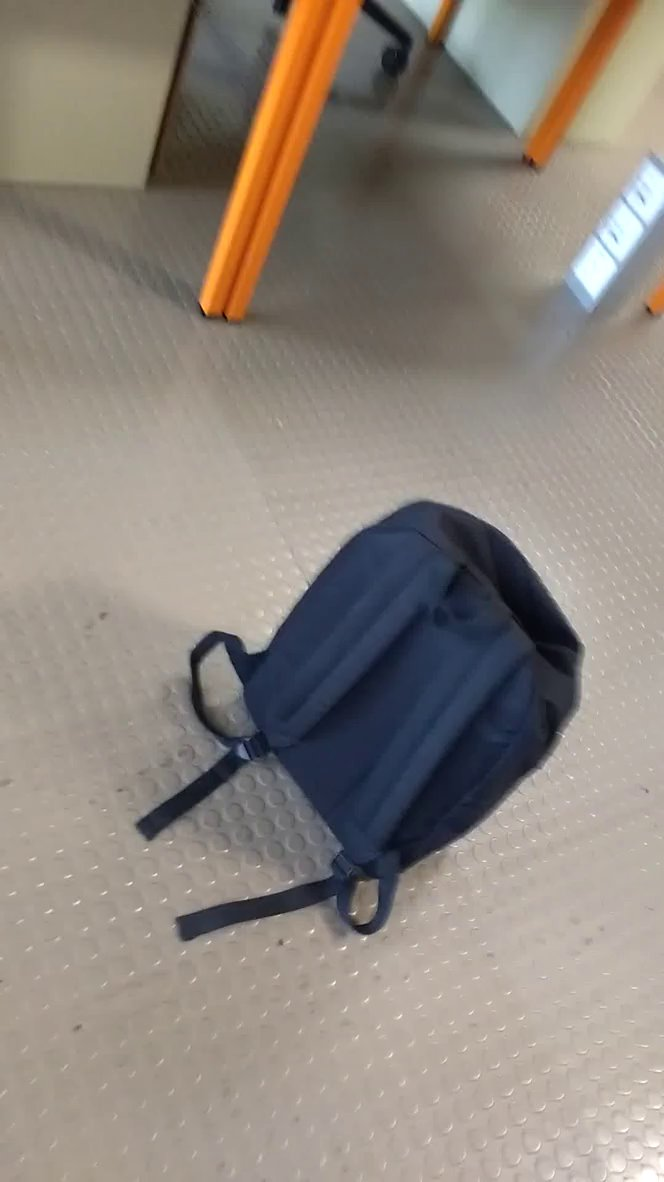bag: (123, 480, 595, 952)
